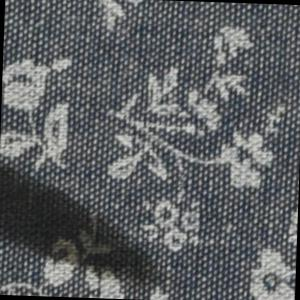Stain: (1, 150, 184, 300)
